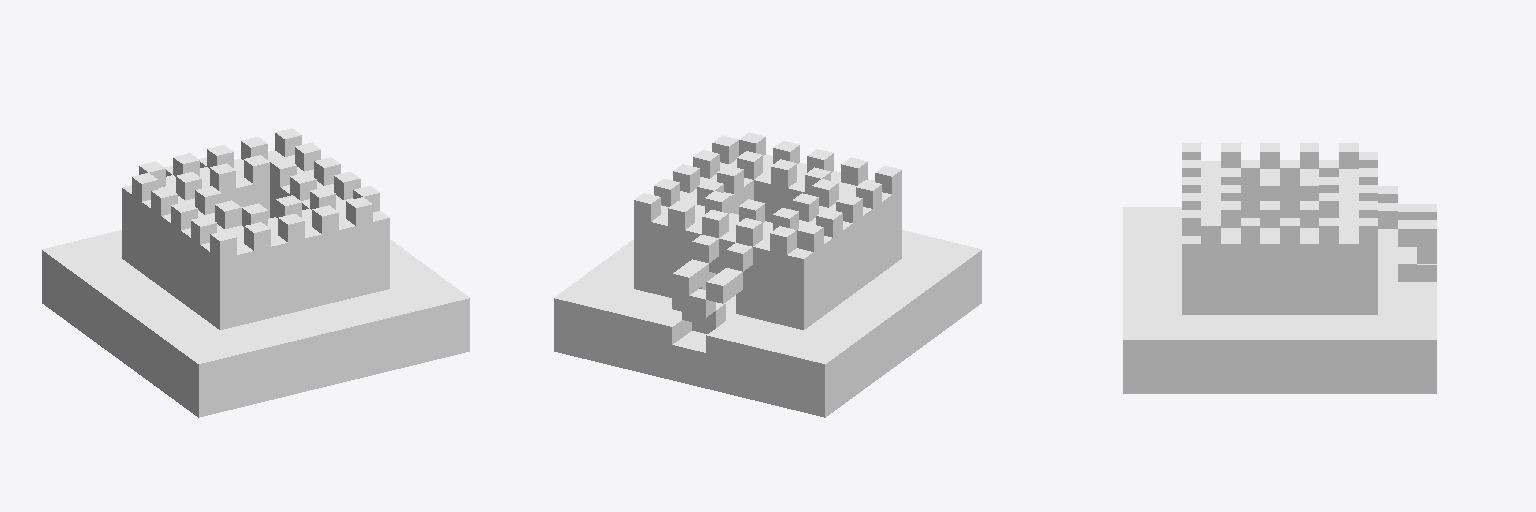
File: castle.obj
The picture shows the model from 3 angles: view 1: azimuth 30°, elevation 25°; view 2: azimuth 150°, elevation 25°; view 3: azimuth 270°, elevation 25°; orthographic projection.
Parts seen in each view (by area): view 1: Castle; view 2: Castle; view 3: Castle.
Part boxes in pixels (left/top/right/bottom): Castle: left=42, top=128, right=469, bottom=417; Castle: left=554, top=132, right=981, bottom=417; Castle: left=1123, top=143, right=1436, bottom=393.
Size of the model in its own units: 16 by 8 by 16.